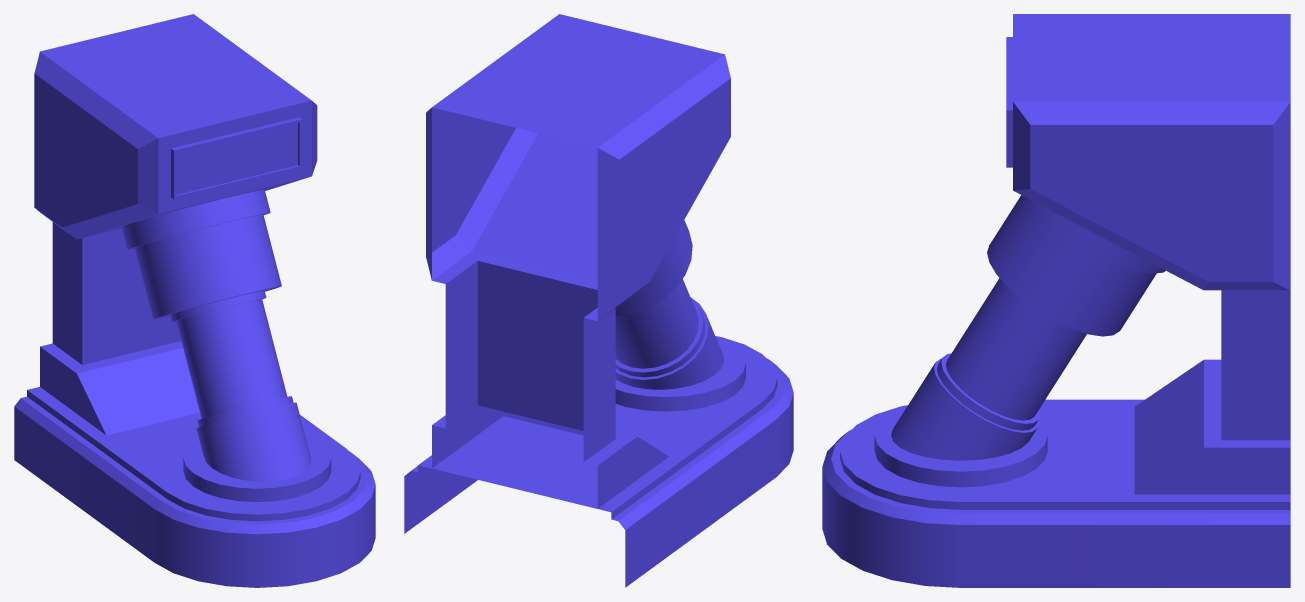
File: Contraption_Wall_01.FBX
3 renders of one model, left to right at view 1: azimuth 30°, elevation 25°; view 2: azimuth 150°, elevation 25°; view 3: azimuth 270°, elevation 25°, orthographic. The views are drawn at different scales.
Parts seen in each view (by area): view 1: Contraption_Wall_01; view 2: Contraption_Wall_01; view 3: Contraption_Wall_01.
Part boxes in pixels (x1=…): Contraption_Wall_01: x1=14, y1=14, x2=375, y2=587; Contraption_Wall_01: x1=404, y1=14, x2=793, y2=587; Contraption_Wall_01: x1=822, y1=14, x2=1290, y2=587.
Bounding box in the file's own units: 1.6 × 3 × 2.7.
